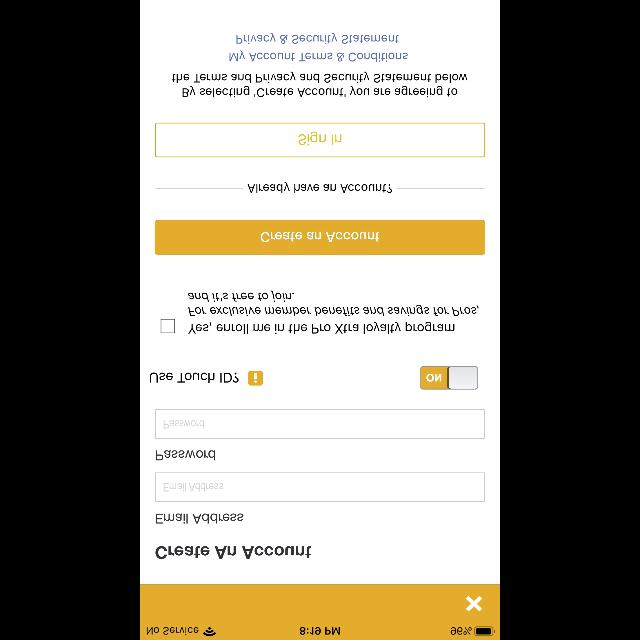checkbox: (161, 319, 175, 333)
icon: (466, 596, 482, 612), (249, 371, 263, 385)
input: (155, 472, 485, 502), (155, 409, 485, 438)
switch: (420, 366, 478, 390)
text: (172, 71, 468, 97), (188, 290, 478, 316), (230, 34, 408, 62), (190, 322, 454, 334), (156, 546, 310, 558), (248, 182, 392, 194), (150, 373, 238, 383), (156, 513, 244, 523), (157, 450, 216, 460), (163, 483, 223, 491), (164, 420, 204, 428)
textbutton: (155, 122, 485, 158), (155, 220, 485, 254)
uppertaskbar: (140, 626, 500, 640)
